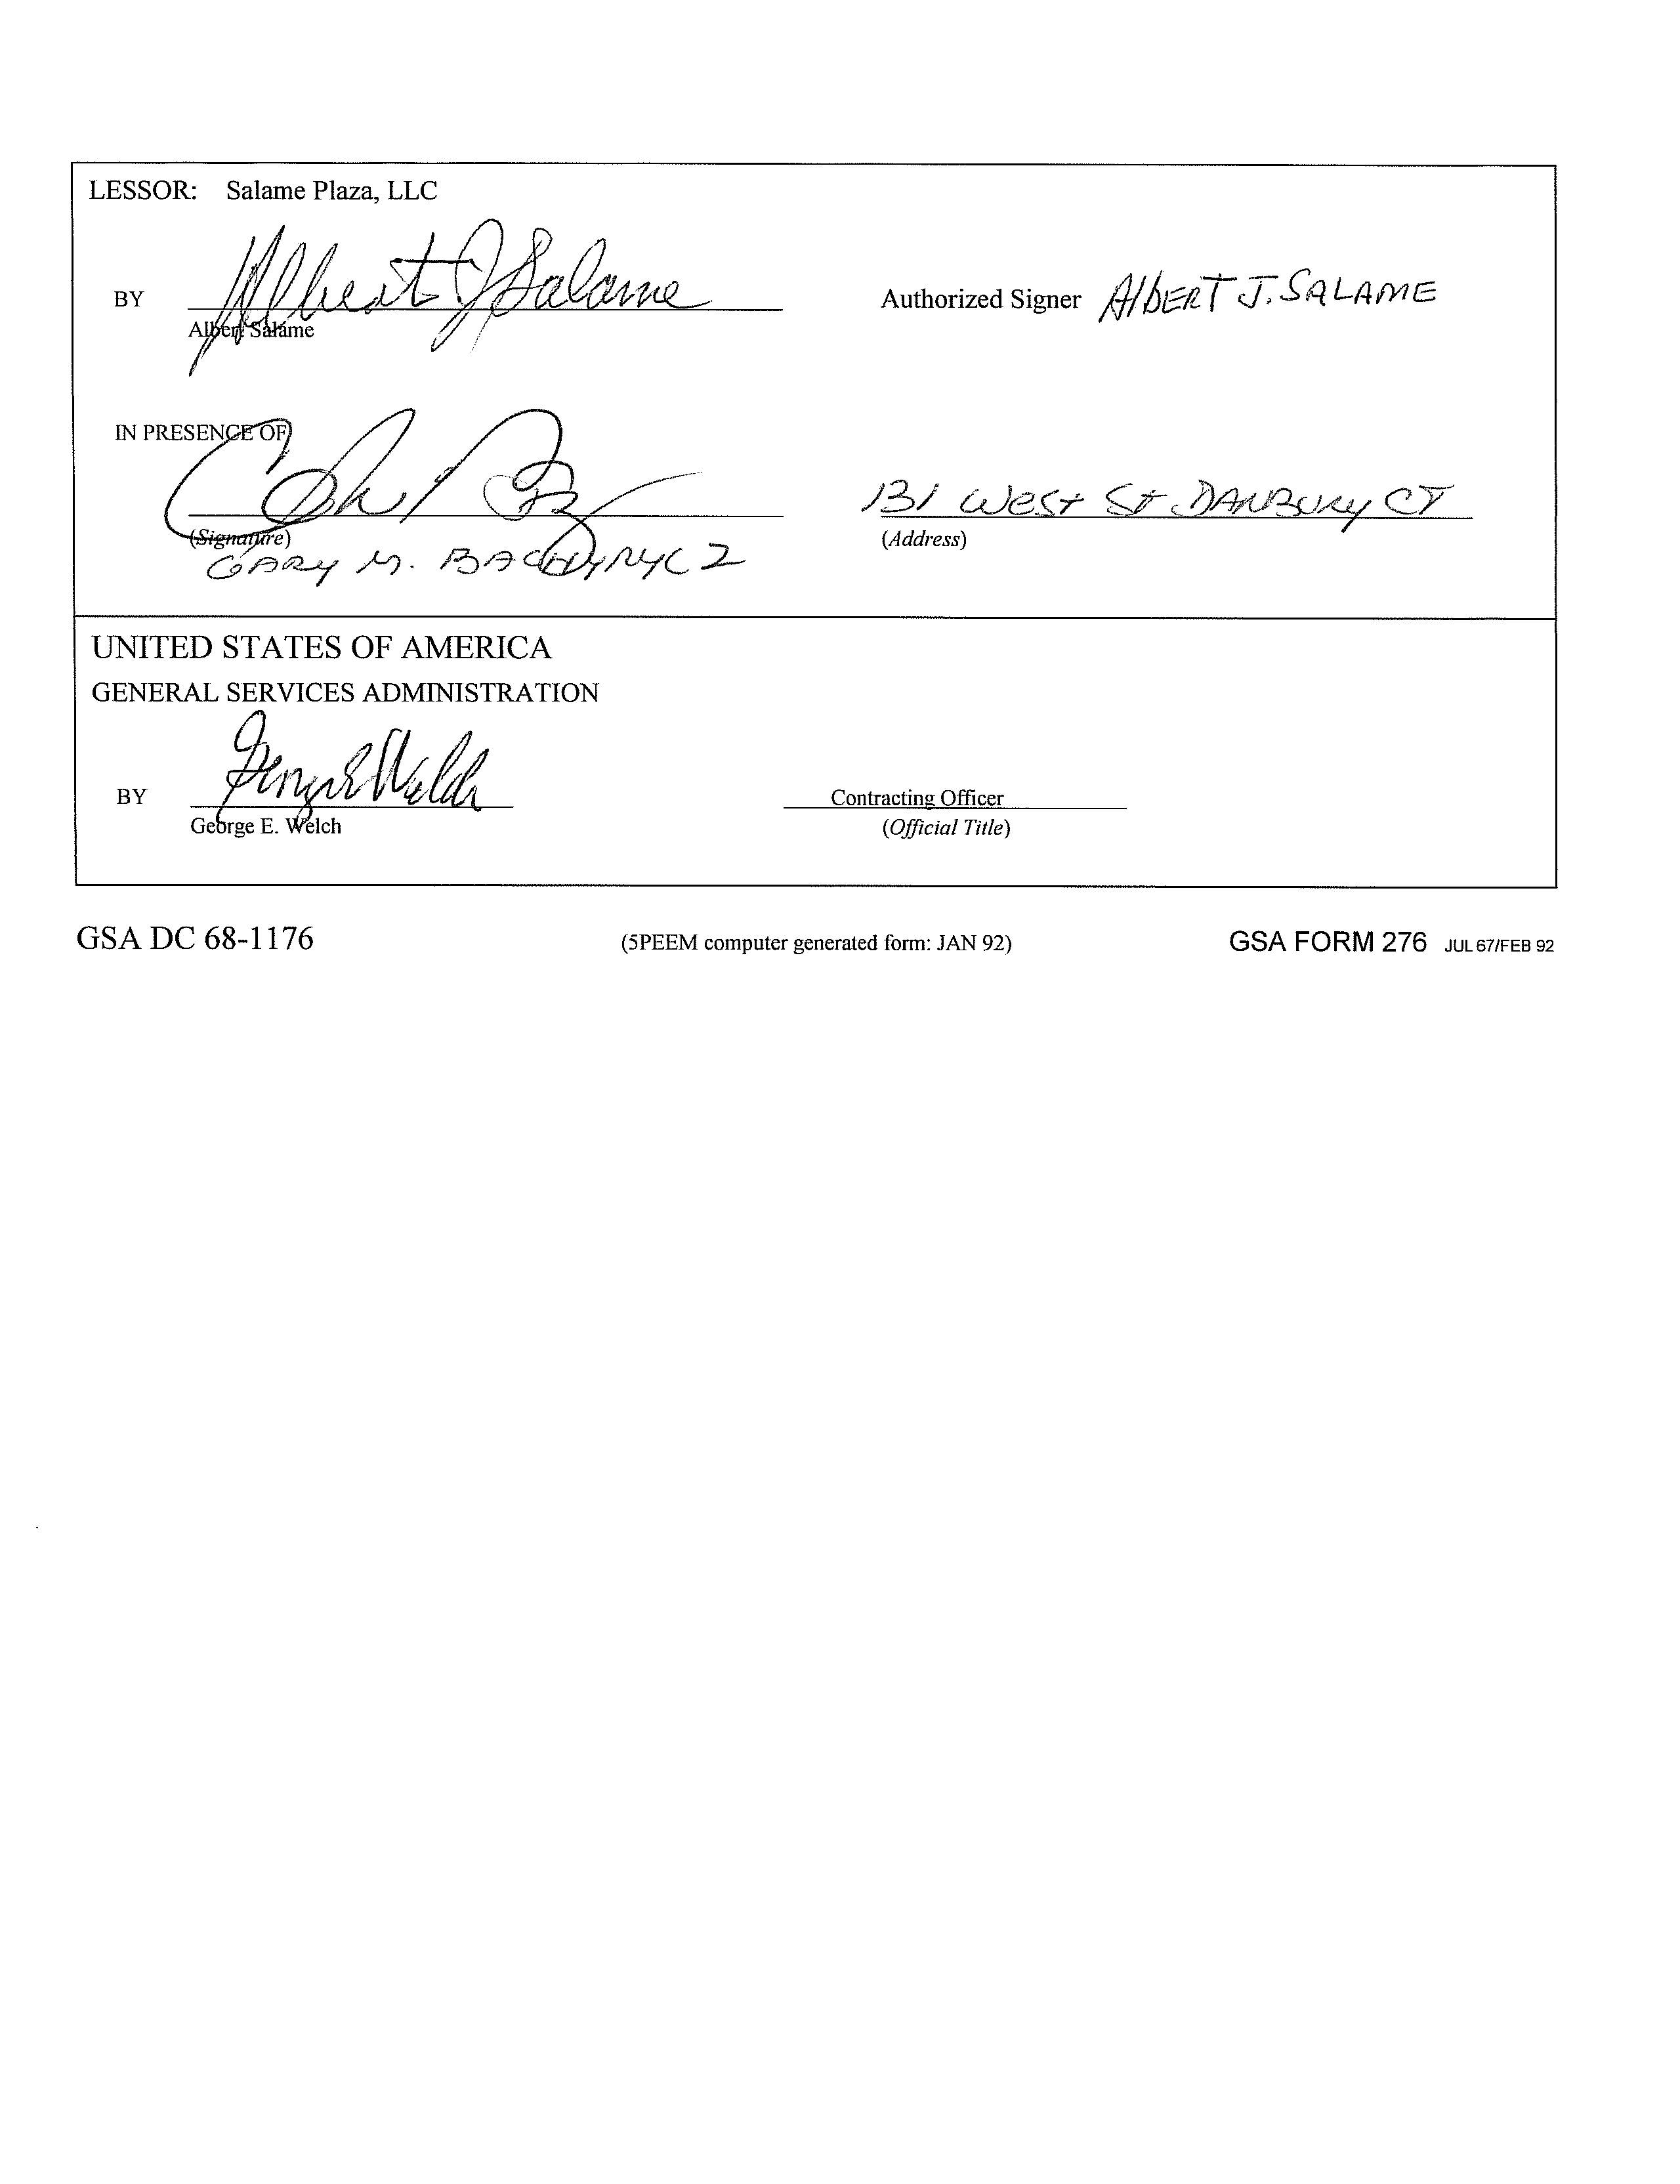handwritten: (139, 404, 750, 598), (159, 205, 743, 326), (851, 453, 1463, 527), (1096, 238, 1459, 355), (198, 707, 515, 808)
